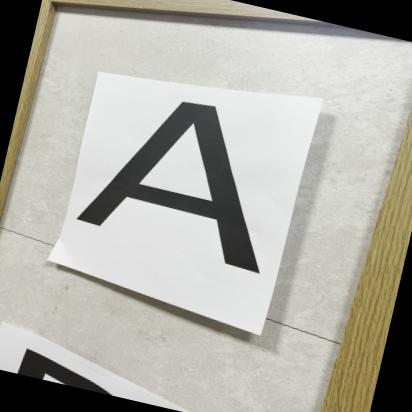seat: (81, 77, 314, 281)
